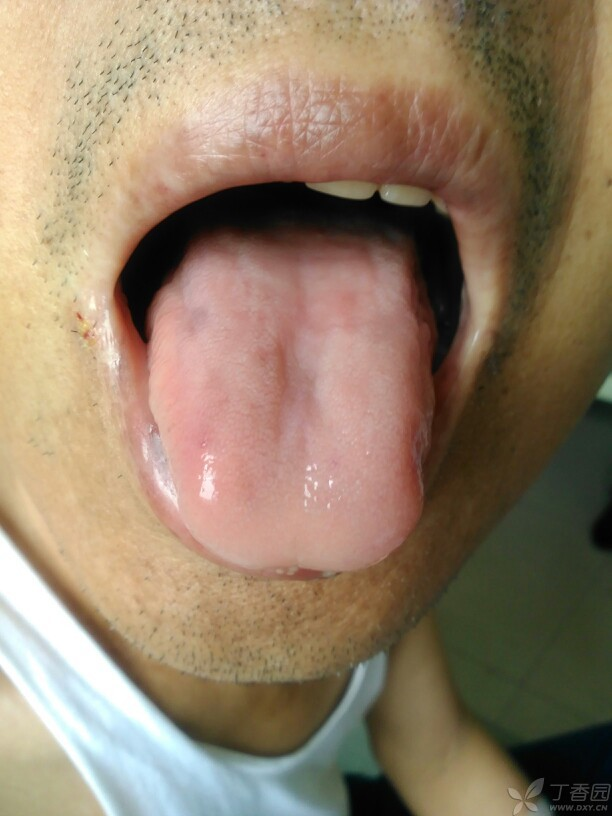baitaishe: (148, 231, 429, 571)
huataishe: (188, 436, 247, 512)
piweiao: (255, 308, 342, 460)
